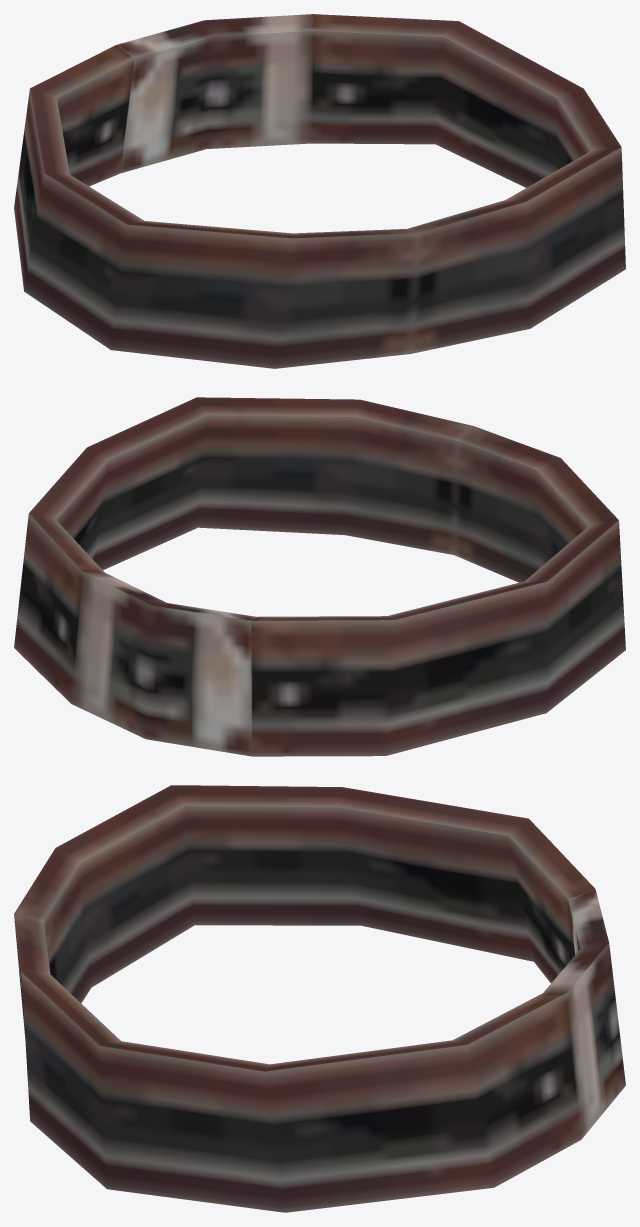
3 views of the same model, one above another, from view 1: azimuth 30°, elevation 25°; view 2: azimuth 150°, elevation 25°; view 3: azimuth 270°, elevation 25° (orthographic). The views are drawn at different scales.
Parts seen in each view (by area): view 1: m_nb_0001_none; view 2: m_nb_0001_none; view 3: m_nb_0001_none.
Part boxes in pixels (box(x1,y1,x2,y2)): m_nb_0001_none: box(14, 14, 625, 368); m_nb_0001_none: box(14, 397, 625, 756); m_nb_0001_none: box(14, 785, 625, 1212).
Size of the model in its own units: 33.34 by 8.7 by 30.75.
1 material, 1 textured.
